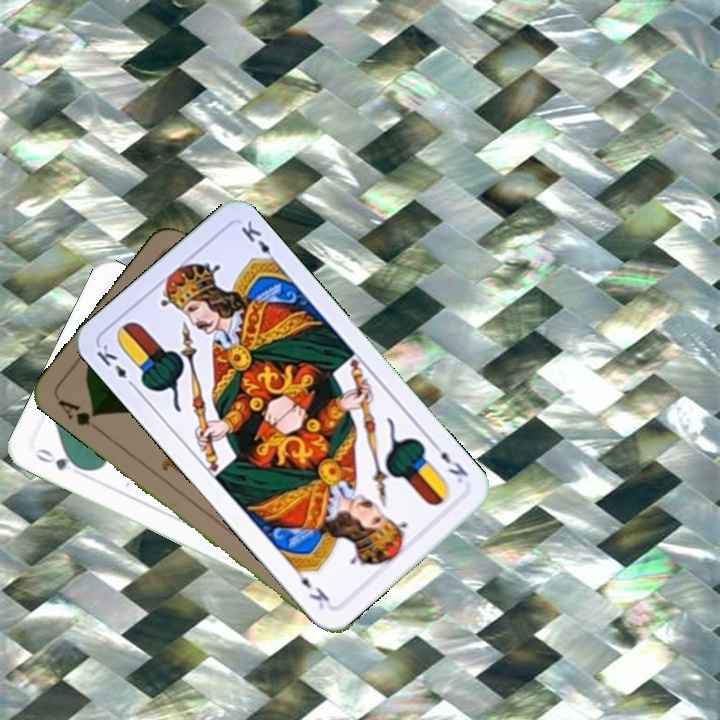EK: (92, 340, 139, 392), (428, 437, 471, 486)
GA: (53, 395, 105, 433)
GO: (31, 444, 87, 473)
